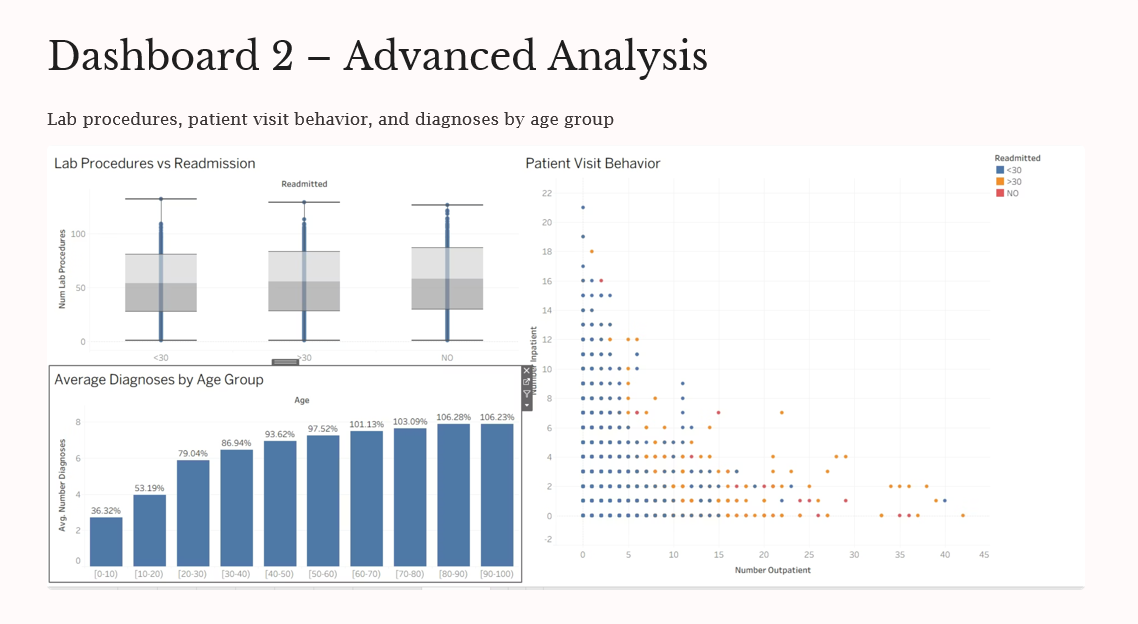

Layout of this report page (visuals, bound fields, positions):
{"tool":"tableau","page":{"name":"Dashboard 2","canvas":[1000,1000],"units":"permille","ordinal":1},"visuals":[{"type":"worksheet","title":"Sheet 4","mark":"Circle","rows":["num_lab_procedures"],"cols":["readmitted"],"box":[4.2,10,453.4,490]},{"type":"worksheet","title":"Sheet 5","mark":"Circle","rows":["number_inpatient"],"cols":["number_outpatient"],"box":[457.6,10,453.4,980]},{"type":"legend","title":"Sheet 5","param":"[federated.1vcn4bk05sg47v143kpif1b9jusi].[none:readmitted:nk]","box":[911,10,84.8,116.1]},{"type":"worksheet","title":"Sheet 6","mark":"Automatic","rows":["number_diagnoses"],"cols":["age"],"box":[4.2,500,453.4,490]}]}

Visuals, with their boxes on the dashboard's canvas, which has no fixed pixel size, in thousandths of its width and height (x1, y1, x2, y2). These are canvas units, not pixel positions in the 1138x624 screenshot, which may show the page scaled, cropped or inside an application window:
"Sheet 4" worksheet (Circle marks): (x1=4, y1=10, x2=458, y2=500)
"Sheet 5" worksheet (Circle marks): (x1=458, y1=10, x2=911, y2=990)
"Sheet 5" legend: (x1=911, y1=10, x2=996, y2=126)
"Sheet 6" worksheet: (x1=4, y1=500, x2=458, y2=990)
